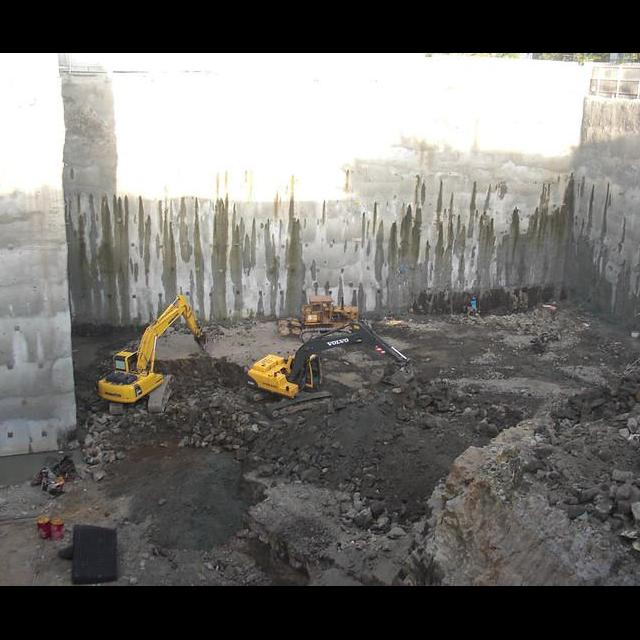Excavator: (242, 322, 414, 418), (94, 292, 208, 418)
Hardhat: (472, 297, 476, 300)
Person: (54, 474, 64, 490), (469, 296, 478, 313)
Safety Vest: (470, 302, 476, 309)
wheel loader: (299, 296, 373, 341)
